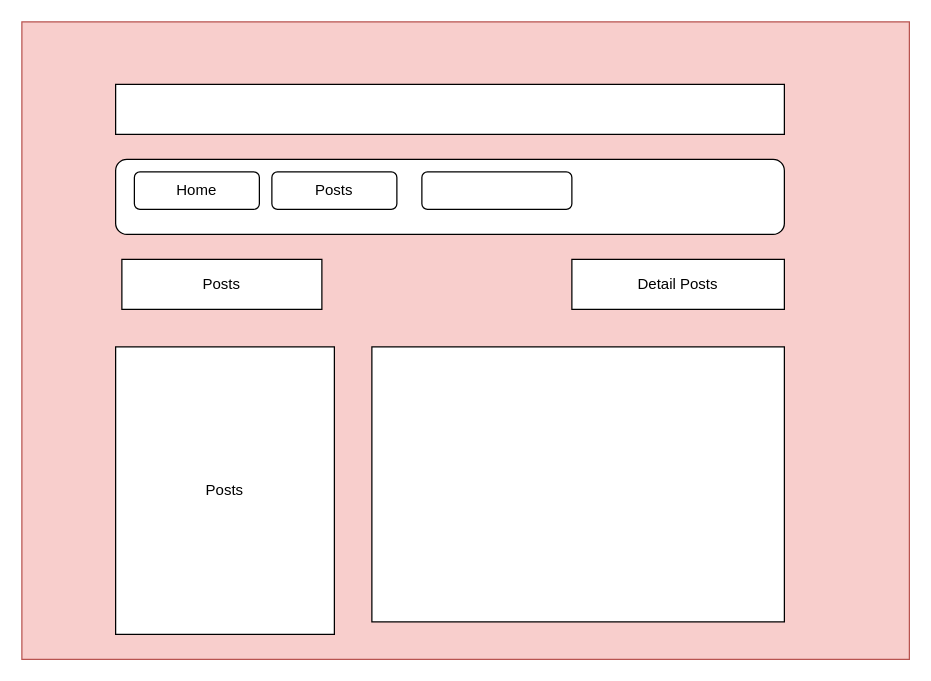
This 931x681 diagram has some shape labels left out. The shapes that lost their labels are listed below. From the top down, each one's box as (x1, y1, x2, y2) in pixels, then its label:
(114, 83, 784, 134): localhost:5173
(421, 171, 572, 209): Search
(371, 346, 784, 622): Detail Post
